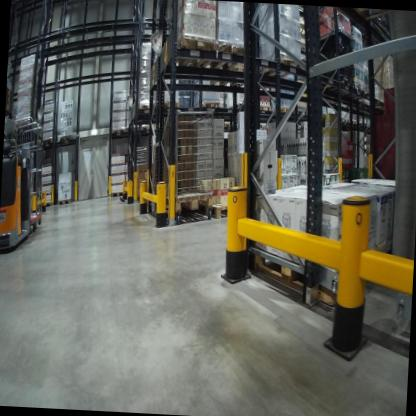pallet: (242, 238, 386, 315), (200, 38, 252, 86), (162, 35, 216, 73), (154, 185, 218, 214), (258, 52, 303, 82), (213, 196, 246, 227), (14, 118, 44, 136), (136, 98, 157, 118), (155, 98, 179, 114), (199, 98, 224, 113), (289, 104, 311, 121), (107, 126, 127, 138), (58, 133, 75, 147), (274, 105, 297, 115), (40, 136, 55, 151), (253, 102, 272, 113), (137, 124, 154, 136), (125, 123, 138, 138), (55, 196, 72, 207), (108, 189, 125, 198), (348, 118, 358, 126), (357, 121, 367, 128), (42, 199, 50, 207), (341, 117, 351, 123)
pallet_truck: (0, 133, 40, 260)
